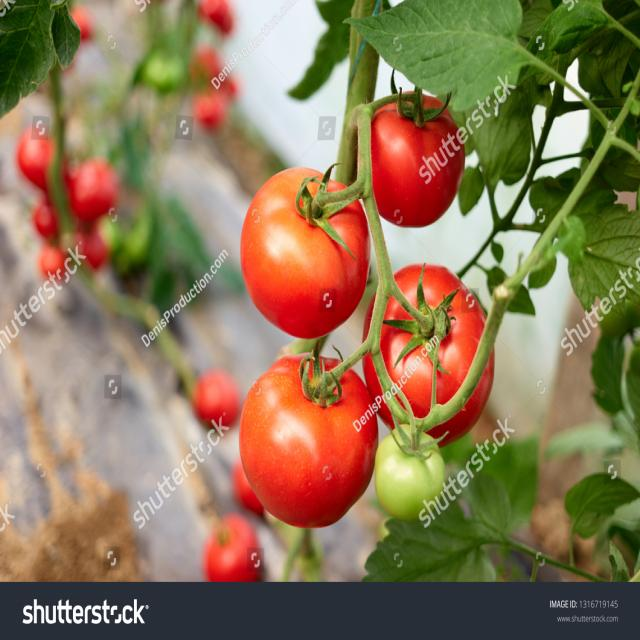tomato: (363, 263, 496, 447), (238, 353, 378, 526), (239, 164, 372, 339), (354, 90, 466, 229)
